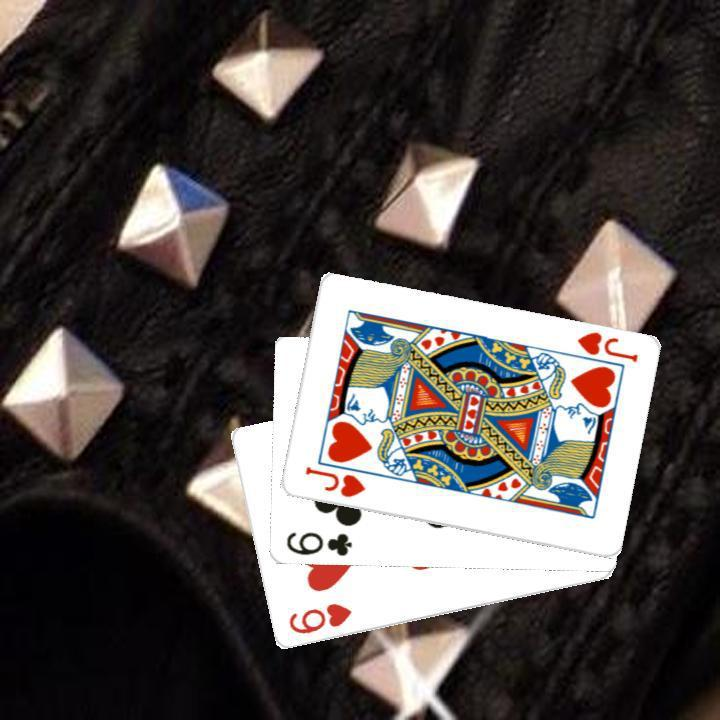6: (284, 599, 353, 637), (281, 528, 353, 559)
J: (300, 462, 367, 500), (572, 328, 639, 365)
